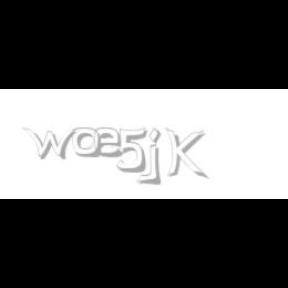5: (116, 128, 148, 174)
K: (165, 128, 205, 180)
e: (94, 128, 128, 158)
j: (146, 128, 176, 186)
o: (72, 128, 100, 158)
w: (22, 128, 82, 160)
